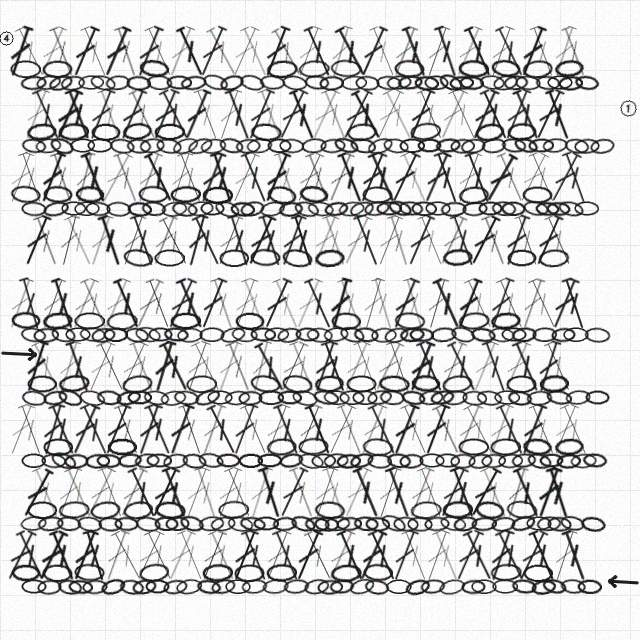chain: (281, 247, 314, 269), (121, 373, 154, 395), (249, 373, 282, 395), (281, 373, 314, 395), (441, 373, 474, 395), (89, 499, 122, 521), (474, 121, 506, 143), (266, 184, 298, 206), (122, 247, 154, 269), (122, 499, 154, 521), (474, 499, 506, 521), (409, 121, 442, 142), (138, 58, 170, 79), (490, 58, 522, 79), (298, 184, 330, 205), (58, 373, 90, 394), (506, 499, 538, 520), (138, 562, 170, 583), (193, 386, 222, 409), (49, 449, 78, 472), (379, 512, 408, 535), (554, 58, 585, 79), (122, 121, 153, 142), (10, 184, 41, 205), (437, 71, 465, 94), (56, 386, 84, 409), (266, 59, 298, 79), (298, 59, 330, 79), (250, 122, 282, 142), (346, 122, 378, 142), (458, 185, 490, 205), (538, 248, 570, 268), (106, 311, 138, 331), (394, 311, 426, 331), (458, 311, 490, 331), (378, 374, 410, 394), (362, 437, 394, 457), (58, 500, 90, 520), (154, 500, 186, 520), (314, 500, 346, 520), (410, 500, 442, 520), (330, 563, 362, 583), (171, 135, 200, 157), (186, 135, 215, 157), (366, 135, 395, 157), (522, 59, 553, 79), (26, 122, 57, 142), (314, 248, 345, 268), (42, 311, 73, 331), (490, 311, 521, 331), (314, 374, 345, 394), (266, 437, 297, 457), (522, 437, 553, 457), (554, 437, 585, 457), (47, 72, 75, 94), (48, 135, 76, 157), (213, 198, 241, 220), (201, 72, 230, 93), (330, 59, 362, 78), (490, 563, 522, 582), (394, 59, 425, 78), (458, 59, 489, 78), (58, 122, 89, 141), (138, 185, 169, 204), (170, 185, 201, 204), (250, 248, 281, 267), (442, 248, 473, 267), (298, 437, 329, 456), (218, 500, 249, 519), (442, 500, 473, 519), (74, 563, 105, 582), (202, 563, 233, 582), (266, 563, 297, 582), (218, 72, 246, 93), (238, 72, 266, 93), (332, 135, 360, 156), (512, 135, 540, 156), (386, 198, 414, 219), (338, 324, 366, 345), (449, 324, 477, 345), (348, 450, 376, 471), (178, 513, 206, 534), (289, 513, 317, 534), (509, 513, 537, 534), (99, 576, 127, 597), (348, 576, 376, 597), (507, 122, 537, 141), (43, 185, 73, 204), (75, 185, 105, 204), (11, 311, 41, 330), (411, 374, 441, 393), (539, 374, 569, 393), (363, 563, 393, 582), (89, 73, 117, 93), (42, 199, 70, 219), (348, 199, 376, 219), (557, 199, 585, 219), (219, 325, 247, 345), (78, 388, 106, 408), (291, 388, 319, 408), (297, 451, 325, 471), (438, 577, 466, 597), (10, 60, 41, 78), (42, 60, 73, 78), (154, 123, 185, 141), (202, 186, 233, 204), (362, 186, 393, 204), (522, 186, 553, 204), (154, 249, 185, 267), (74, 312, 105, 330), (170, 312, 201, 330), (186, 375, 217, 393), (346, 375, 377, 393), (506, 375, 537, 393), (458, 438, 489, 456), (490, 438, 521, 456), (42, 564, 73, 582), (234, 564, 265, 582), (91, 123, 121, 141), (259, 199, 286, 219), (293, 199, 320, 219), (219, 249, 249, 267), (507, 249, 537, 267), (235, 312, 265, 330), (331, 312, 361, 330), (383, 325, 410, 345), (27, 375, 57, 393), (115, 388, 142, 408), (43, 438, 73, 456), (107, 438, 137, 456), (526, 451, 553, 471), (27, 501, 57, 519), (11, 564, 41, 582), (523, 564, 553, 582), (404, 577, 431, 597), (349, 136, 377, 155), (363, 199, 391, 218), (522, 199, 550, 218), (134, 325, 162, 344), (312, 388, 340, 407), (545, 388, 573, 407), (197, 451, 225, 470), (439, 514, 467, 533), (175, 577, 203, 596), (35, 73, 62, 92), (492, 73, 519, 92), (218, 136, 245, 155), (239, 199, 266, 218), (50, 325, 77, 344), (366, 388, 393, 407), (429, 388, 456, 407), (278, 451, 305, 470), (452, 514, 479, 533), (559, 514, 586, 533), (131, 577, 158, 596), (210, 577, 237, 596), (303, 577, 330, 596), (541, 577, 568, 596), (155, 137, 183, 155), (382, 137, 410, 155), (180, 74, 207, 92), (281, 74, 308, 92), (200, 137, 227, 155), (589, 137, 616, 155), (161, 200, 188, 218), (171, 200, 198, 218), (307, 200, 334, 218), (323, 200, 350, 218), (338, 200, 365, 218), (20, 326, 47, 344), (90, 326, 117, 344), (276, 326, 303, 344), (42, 389, 69, 407), (143, 389, 170, 407), (160, 389, 187, 407), (173, 389, 200, 407), (224, 389, 251, 407), (400, 389, 427, 407), (476, 389, 503, 407), (162, 452, 189, 470), (181, 452, 208, 470), (467, 452, 494, 470), (76, 515, 103, 533), (227, 515, 254, 533), (239, 515, 266, 533), (490, 515, 517, 533), (162, 578, 189, 596), (530, 578, 557, 596), (60, 74, 86, 92), (574, 74, 600, 92), (21, 137, 47, 155), (109, 137, 135, 155), (460, 137, 486, 155), (564, 137, 590, 155), (278, 200, 304, 218), (124, 326, 150, 344), (470, 326, 496, 344), (21, 389, 47, 407), (507, 389, 533, 407), (135, 515, 161, 533), (210, 515, 236, 533), (580, 515, 606, 533), (57, 578, 83, 596), (119, 578, 145, 596), (196, 578, 222, 596), (364, 578, 390, 596), (146, 74, 173, 91), (259, 74, 286, 91), (35, 137, 62, 154), (246, 137, 273, 154), (187, 200, 214, 217), (79, 326, 106, 343), (231, 326, 258, 343), (430, 326, 457, 343), (323, 389, 350, 406), (20, 515, 47, 532), (37, 515, 64, 532), (198, 515, 225, 532), (324, 515, 351, 532), (241, 578, 268, 595), (262, 578, 289, 595), (283, 578, 310, 595), (105, 74, 131, 91), (304, 74, 330, 91), (386, 74, 412, 91), (397, 74, 423, 91), (479, 74, 505, 91), (503, 74, 529, 91), (139, 137, 165, 154), (301, 137, 327, 154), (435, 137, 461, 154), (481, 137, 507, 154), (501, 137, 527, 154), (542, 137, 568, 154), (141, 200, 167, 217), (398, 200, 424, 217), (491, 200, 517, 217), (163, 326, 189, 343), (323, 326, 349, 343), (353, 326, 379, 343), (399, 326, 425, 343), (511, 326, 537, 343), (96, 389, 122, 406), (379, 389, 405, 406), (418, 389, 444, 406), (442, 389, 468, 406), (565, 389, 591, 406), (117, 452, 143, 469), (134, 452, 160, 469), (323, 452, 349, 469), (386, 452, 412, 469), (511, 452, 537, 469), (582, 452, 608, 469), (56, 515, 82, 532), (353, 515, 379, 532), (536, 515, 562, 532), (329, 578, 355, 595), (420, 578, 446, 595), (511, 578, 537, 595), (560, 578, 586, 595), (20, 75, 47, 91), (440, 201, 467, 217), (306, 327, 333, 343), (488, 327, 515, 343), (584, 327, 611, 343), (526, 390, 553, 406), (570, 453, 597, 469), (341, 75, 367, 91), (376, 75, 402, 91), (515, 75, 541, 91), (535, 75, 561, 91), (126, 138, 152, 154), (235, 138, 261, 154), (320, 138, 346, 154), (574, 138, 600, 154), (21, 201, 47, 217), (85, 201, 111, 217), (462, 201, 488, 217), (33, 327, 59, 343), (177, 327, 203, 343), (371, 327, 397, 343), (450, 453, 476, 469), (272, 516, 298, 532), (304, 516, 330, 532), (336, 516, 362, 532), (393, 516, 419, 532), (407, 516, 433, 532), (424, 516, 450, 532), (471, 516, 497, 532), (82, 579, 108, 595), (317, 579, 343, 595), (126, 75, 151, 91), (319, 75, 344, 91), (355, 75, 380, 91), (414, 75, 439, 91), (449, 75, 474, 91), (459, 75, 484, 91), (558, 75, 583, 91), (279, 138, 304, 154), (450, 138, 475, 154), (106, 201, 131, 217), (127, 201, 152, 217), (230, 201, 255, 217), (535, 201, 560, 217), (546, 201, 571, 217), (409, 327, 434, 343), (551, 327, 576, 343), (238, 390, 263, 406), (462, 390, 487, 406), (41, 453, 66, 469), (64, 453, 89, 469), (85, 453, 110, 469), (96, 453, 121, 469), (336, 453, 361, 469), (367, 453, 392, 469), (399, 453, 424, 469), (481, 453, 506, 469), (498, 453, 523, 469), (556, 453, 581, 469), (98, 516, 123, 532), (114, 516, 139, 532), (314, 516, 339, 532), (365, 516, 390, 532), (547, 516, 572, 532), (37, 579, 62, 595), (68, 579, 93, 595), (461, 579, 486, 595), (78, 75, 104, 90), (166, 75, 192, 90), (547, 75, 573, 90), (87, 138, 113, 153), (399, 138, 425, 153), (528, 138, 554, 153), (74, 201, 100, 216), (376, 201, 402, 216), (411, 201, 437, 216), (425, 201, 451, 216), (65, 327, 91, 342), (199, 327, 225, 342), (250, 327, 276, 342), (501, 327, 527, 342), (563, 327, 589, 342), (207, 390, 233, 405), (258, 390, 284, 405), (339, 390, 365, 405), (352, 390, 378, 405), (494, 390, 520, 405), (146, 453, 172, 468), (419, 453, 445, 468), (253, 516, 279, 531), (526, 516, 552, 531), (21, 579, 47, 594), (225, 579, 251, 594), (386, 579, 412, 594), (471, 579, 497, 594), (492, 579, 518, 594), (424, 75, 449, 90), (70, 138, 95, 153), (267, 138, 292, 153), (417, 138, 442, 153), (61, 201, 86, 216), (200, 201, 225, 216), (478, 201, 503, 216), (501, 201, 526, 216), (574, 201, 599, 216), (103, 327, 128, 342), (148, 327, 173, 342), (264, 327, 289, 342), (295, 327, 320, 342), (532, 327, 557, 342), (127, 390, 152, 405), (277, 390, 302, 405), (585, 390, 610, 405), (21, 453, 46, 468), (216, 453, 241, 468), (238, 453, 263, 468), (257, 453, 282, 468), (311, 453, 336, 468), (435, 453, 460, 468), (539, 453, 564, 468), (154, 516, 179, 531), (165, 516, 190, 531), (145, 579, 170, 594), (577, 579, 602, 594)
double: (202, 24, 243, 79), (96, 150, 137, 205), (480, 151, 521, 205), (331, 24, 371, 79), (155, 87, 195, 142), (347, 87, 387, 142), (513, 150, 553, 205), (545, 150, 585, 205), (459, 402, 499, 457), (465, 465, 505, 520), (107, 528, 147, 583), (267, 25, 307, 79), (17, 466, 57, 520), (11, 24, 50, 79), (491, 24, 530, 79), (273, 87, 312, 142), (337, 87, 376, 142), (379, 87, 418, 142), (465, 213, 504, 268), (27, 339, 66, 394), (155, 339, 194, 394), (187, 339, 226, 394), (369, 339, 408, 394), (443, 339, 482, 394), (203, 402, 242, 457), (81, 465, 120, 520), (1, 528, 40, 583), (33, 528, 72, 583), (299, 528, 338, 583), (459, 528, 498, 583), (491, 528, 530, 583), (513, 528, 552, 583), (155, 214, 194, 268), (251, 340, 290, 394), (140, 24, 178, 79), (236, 24, 274, 79), (28, 87, 66, 142), (124, 87, 162, 142), (306, 87, 344, 142), (370, 87, 408, 142), (434, 87, 472, 142), (444, 87, 482, 142), (476, 87, 514, 142), (530, 87, 568, 142), (140, 150, 178, 205), (290, 150, 328, 205), (386, 150, 424, 205), (60, 213, 98, 268), (188, 213, 226, 268), (242, 213, 280, 268), (338, 213, 376, 268), (130, 276, 168, 331), (162, 276, 200, 331), (258, 276, 296, 331), (300, 276, 338, 331), (428, 276, 466, 331), (460, 276, 498, 331), (524, 276, 562, 331), (92, 339, 130, 394), (114, 339, 152, 394), (274, 339, 312, 394), (66, 402, 104, 457), (76, 402, 114, 457), (322, 402, 360, 457), (364, 402, 402, 457), (428, 402, 466, 457), (492, 402, 530, 457), (60, 465, 98, 520), (114, 465, 152, 520), (124, 465, 162, 520), (146, 465, 184, 520), (274, 465, 312, 520), (338, 465, 376, 520), (434, 465, 472, 520), (12, 528, 50, 583), (130, 528, 168, 583), (140, 528, 178, 583), (162, 528, 200, 583), (322, 528, 360, 583), (364, 528, 402, 583), (34, 24, 71, 79), (76, 24, 113, 79), (98, 24, 135, 79), (172, 24, 209, 79), (194, 24, 231, 79), (226, 24, 263, 79), (300, 24, 337, 79), (450, 24, 487, 79), (460, 24, 497, 79), (50, 87, 87, 142), (114, 87, 151, 142), (242, 87, 279, 142), (412, 87, 449, 142), (466, 87, 503, 142), (226, 150, 263, 205), (322, 150, 359, 205), (354, 150, 391, 205), (364, 150, 401, 205), (396, 150, 433, 205), (524, 150, 561, 205), (402, 213, 439, 268), (434, 213, 471, 268), (530, 213, 567, 268), (540, 213, 577, 268), (66, 276, 103, 331), (76, 276, 113, 331), (98, 276, 135, 331), (172, 276, 209, 331), (268, 276, 305, 331), (290, 276, 327, 331), (492, 276, 529, 331), (546, 276, 583, 331), (82, 339, 119, 394), (338, 339, 375, 394), (412, 339, 449, 394), (498, 339, 535, 394), (508, 339, 545, 394), (540, 339, 577, 394), (44, 402, 81, 457), (140, 402, 177, 457), (236, 402, 273, 457), (396, 402, 433, 457), (524, 402, 561, 457), (556, 402, 593, 457), (28, 465, 65, 520), (220, 465, 257, 520), (348, 465, 385, 520), (476, 465, 513, 520), (204, 528, 241, 583), (268, 528, 305, 583), (290, 528, 327, 583), (354, 528, 391, 583), (428, 528, 465, 583), (450, 528, 487, 583), (67, 24, 103, 79), (131, 24, 167, 79), (163, 24, 199, 79), (355, 24, 391, 79), (365, 24, 401, 79), (387, 24, 423, 79), (515, 24, 551, 79), (83, 87, 119, 142), (147, 87, 183, 142), (179, 87, 215, 142), (253, 87, 289, 142), (285, 87, 321, 142), (317, 87, 353, 142), (403, 87, 439, 142), (499, 87, 535, 142), (509, 87, 545, 142), (131, 150, 167, 205), (237, 150, 273, 205), (259, 150, 295, 205), (333, 150, 369, 205), (419, 150, 455, 205), (493, 150, 529, 205), (19, 213, 55, 268), (211, 213, 247, 268), (307, 213, 343, 268), (349, 213, 385, 268), (371, 213, 407, 268), (413, 213, 449, 268), (109, 276, 145, 331), (195, 276, 231, 331), (333, 276, 369, 331), (387, 276, 423, 331), (221, 339, 257, 394), (285, 339, 321, 394), (403, 339, 439, 394), (467, 339, 503, 394), (3, 402, 39, 457), (99, 402, 135, 457), (109, 402, 145, 457), (269, 402, 305, 457), (291, 402, 327, 457), (301, 402, 337, 457), (355, 402, 391, 457), (387, 402, 423, 457), (451, 402, 487, 457), (515, 402, 551, 457), (547, 402, 583, 457), (93, 465, 129, 520), (509, 465, 545, 520), (45, 528, 81, 583), (67, 528, 103, 583), (173, 528, 209, 583), (195, 528, 231, 583), (227, 528, 263, 583), (237, 528, 273, 583), (259, 528, 295, 583), (333, 528, 369, 583), (397, 528, 433, 583), (525, 528, 561, 583), (45, 24, 80, 79), (259, 24, 294, 79), (291, 24, 326, 79), (525, 24, 560, 79), (557, 24, 592, 79), (19, 87, 54, 142), (61, 87, 96, 142), (93, 87, 128, 142), (189, 87, 224, 142), (221, 87, 256, 142), (541, 87, 576, 142), (3, 150, 38, 205), (35, 150, 70, 205), (77, 150, 112, 205), (109, 150, 144, 205), (173, 150, 208, 205), (195, 150, 230, 205), (301, 150, 336, 205), (451, 150, 486, 205), (461, 150, 496, 205), (29, 213, 64, 268), (147, 213, 182, 268), (275, 213, 310, 268), (477, 213, 512, 268), (499, 213, 534, 268), (3, 276, 38, 331), (35, 276, 70, 331), (141, 276, 176, 331), (237, 276, 272, 331), (451, 276, 486, 331), (125, 339, 160, 394), (317, 339, 352, 394), (349, 339, 384, 394), (435, 339, 470, 394), (163, 402, 198, 457), (227, 402, 262, 457), (259, 402, 294, 457), (333, 402, 368, 457), (419, 402, 454, 457), (483, 402, 518, 457), (51, 465, 86, 520), (179, 465, 214, 520), (211, 465, 246, 520), (285, 465, 320, 520), (381, 465, 416, 520), (403, 465, 438, 520), (413, 465, 448, 520), (387, 528, 422, 583), (557, 528, 592, 583), (398, 24, 432, 79), (420, 24, 454, 79), (484, 24, 518, 79), (212, 87, 246, 142), (14, 150, 48, 205), (430, 150, 464, 205), (558, 150, 592, 205), (84, 213, 118, 268), (116, 213, 150, 268), (126, 213, 160, 268), (318, 213, 352, 268), (446, 213, 480, 268), (510, 213, 544, 268), (206, 276, 240, 331), (228, 276, 262, 331), (484, 276, 518, 331), (180, 339, 214, 394), (212, 339, 246, 394), (308, 339, 342, 394), (382, 339, 416, 394), (478, 339, 512, 394), (14, 402, 48, 457), (132, 402, 166, 457), (174, 402, 208, 457), (196, 402, 230, 457), (158, 465, 192, 520), (308, 465, 342, 520), (318, 465, 352, 520), (446, 465, 480, 520), (532, 465, 566, 520), (420, 528, 454, 583), (484, 528, 518, 583), (4, 24, 37, 79), (110, 24, 143, 79), (430, 24, 463, 79), (548, 24, 581, 79), (46, 150, 79, 205), (164, 150, 197, 205), (206, 150, 239, 205), (270, 150, 303, 205), (94, 213, 127, 268), (254, 213, 287, 268), (516, 276, 549, 331), (558, 276, 591, 331), (20, 339, 53, 394), (62, 339, 95, 394), (532, 339, 565, 394), (190, 465, 223, 520), (244, 465, 277, 520), (254, 465, 287, 520), (372, 465, 405, 520), (542, 465, 575, 520), (100, 528, 133, 583), (548, 528, 581, 583), (325, 24, 357, 79), (223, 213, 255, 268), (287, 213, 319, 268), (383, 213, 415, 268), (47, 276, 79, 331), (357, 276, 389, 331), (367, 276, 399, 331), (421, 276, 453, 331), (53, 339, 85, 394), (37, 402, 69, 457), (501, 465, 533, 520), (79, 528, 111, 583), (15, 276, 46, 331), (325, 276, 356, 331), (399, 276, 430, 331), (149, 339, 180, 394), (70, 150, 100, 205), (54, 213, 84, 268), (182, 213, 212, 268), (246, 339, 276, 394)
noise: (0, 346, 39, 362), (617, 97, 640, 120), (605, 575, 639, 589), (0, 29, 15, 47)
